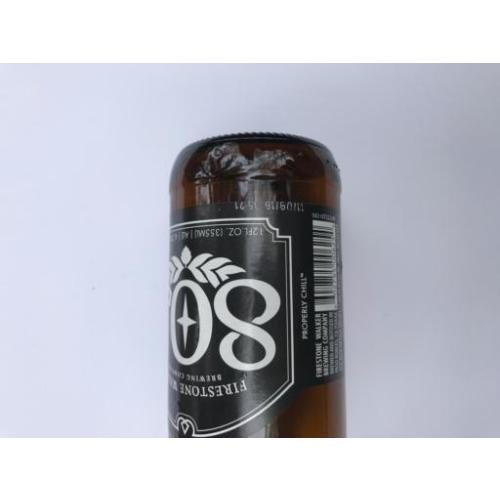glass: (170, 132, 344, 439)
